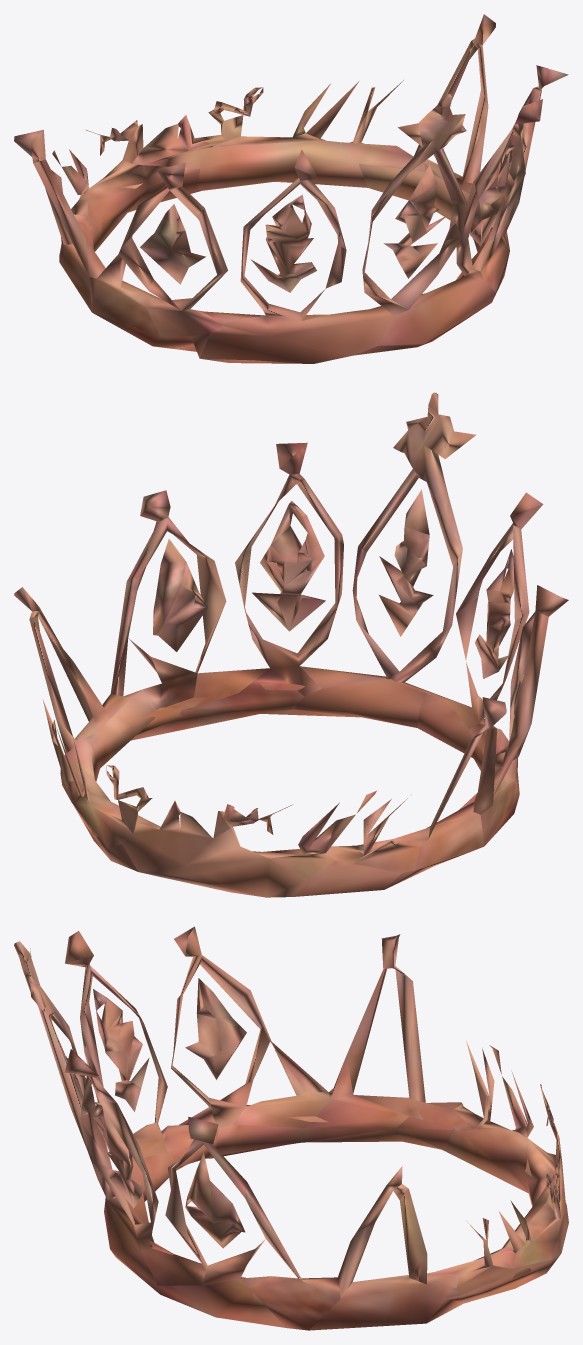
3 renders of one model, top to bottom at view 1: azimuth 30°, elevation 25°; view 2: azimuth 150°, elevation 25°; view 3: azimuth 270°, elevation 25°, orthographic. The views are drawn at different scales.
Parts seen in each view (by area): view 1: Pink-Crown-11; view 2: Pink-Crown-11; view 3: Pink-Crown-11.
Part boxes in pixels (x1,y1,x2,y2): Pink-Crown-11: [14, 14, 568, 363]; Pink-Crown-11: [14, 392, 568, 897]; Pink-Crown-11: [14, 926, 568, 1330].
Bounding box in the file's own units: 0.274 × 0.1572 × 0.2629.
Materials: 1 (1 with a texture image).
